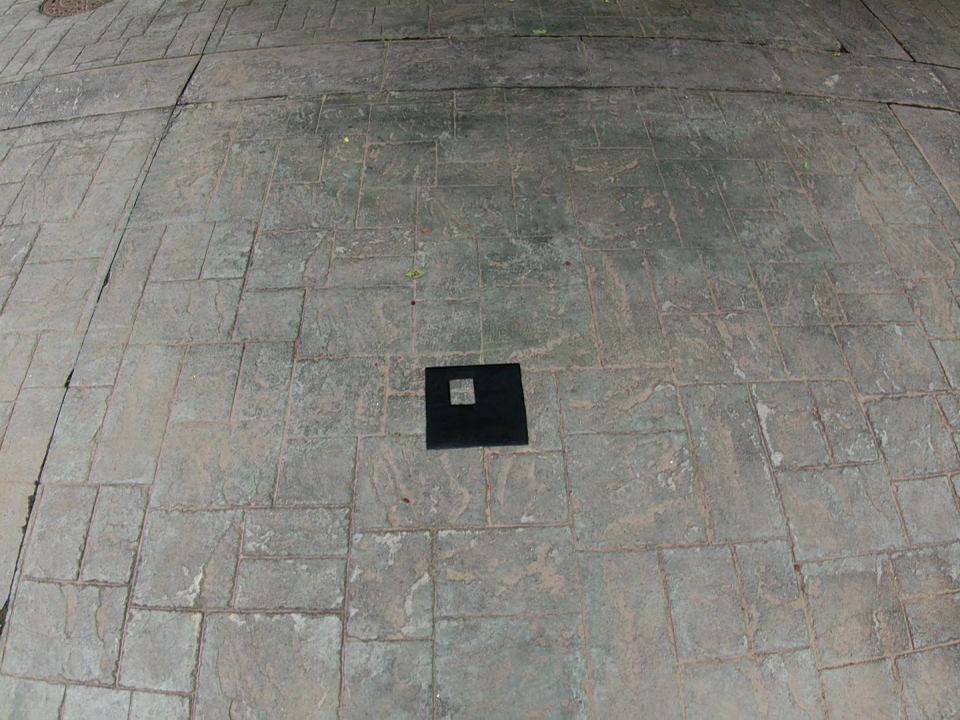qrcode: (425, 364, 528, 449)
